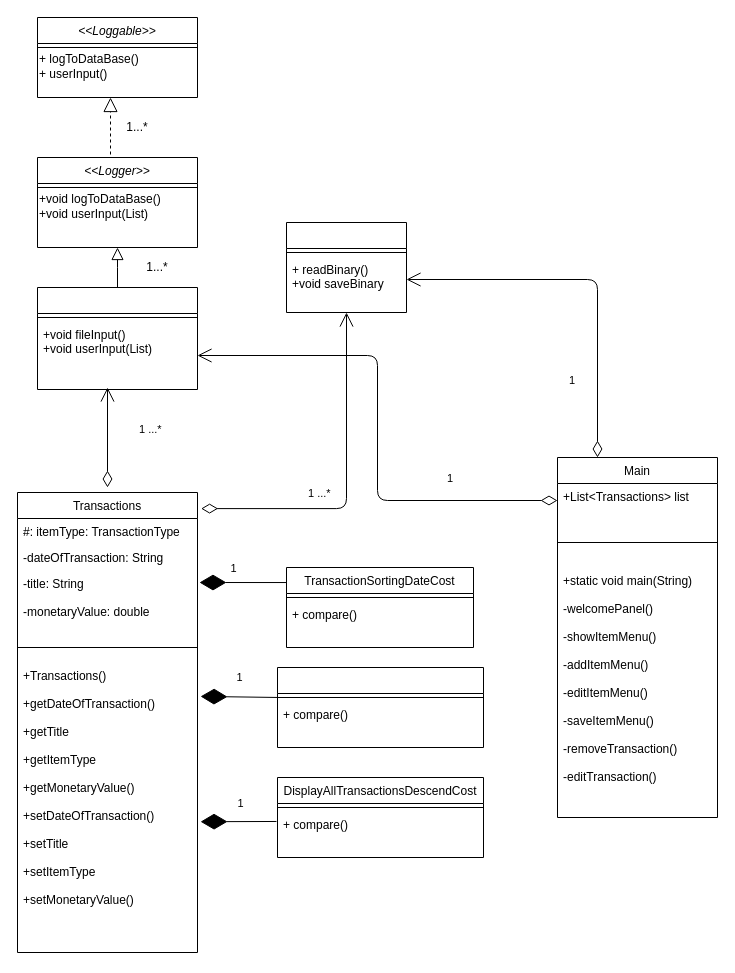
Image size: 735x973. Some labels were removed from this diagram. Here are the shapes that lost their labels. From the top down, the box of each, then its label:
(286, 222, 406, 312): BinaryOperations
(36, 286, 198, 390): FileHandler
(276, 666, 484, 748): DisplayAllTransactionsAscendCost
